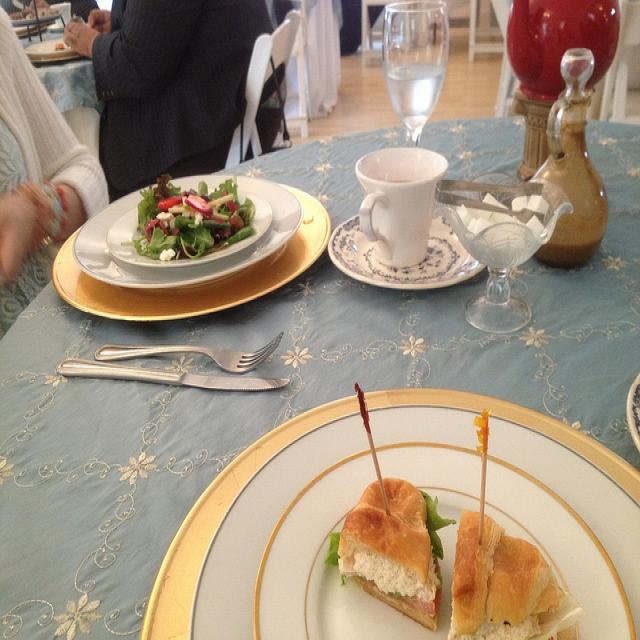chair: (491, 0, 640, 125), (224, 11, 303, 171), (285, 21, 308, 141), (468, 0, 503, 64)
dining table: (0, 113, 640, 624), (11, 1, 95, 76)
